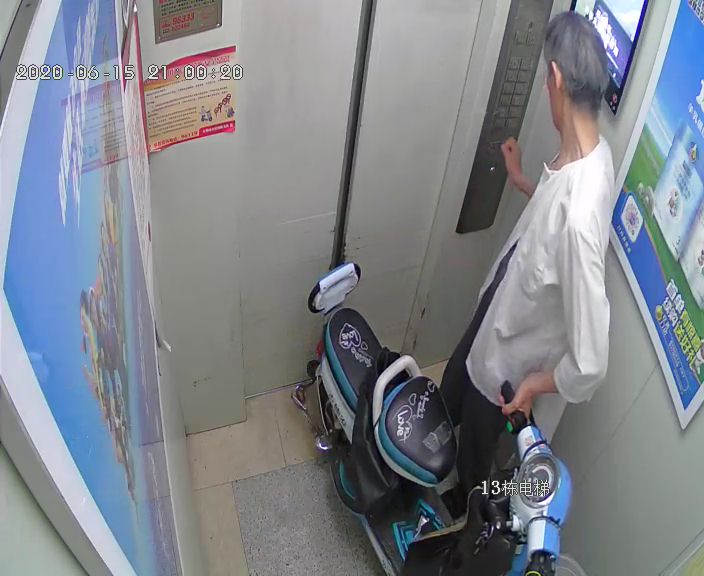Electric-bicycle: (297, 263, 582, 569)
